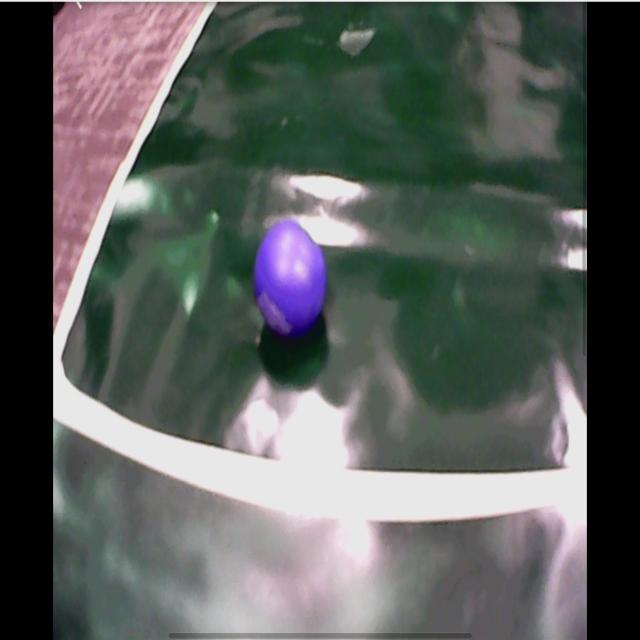ball: (257, 222, 326, 341)
